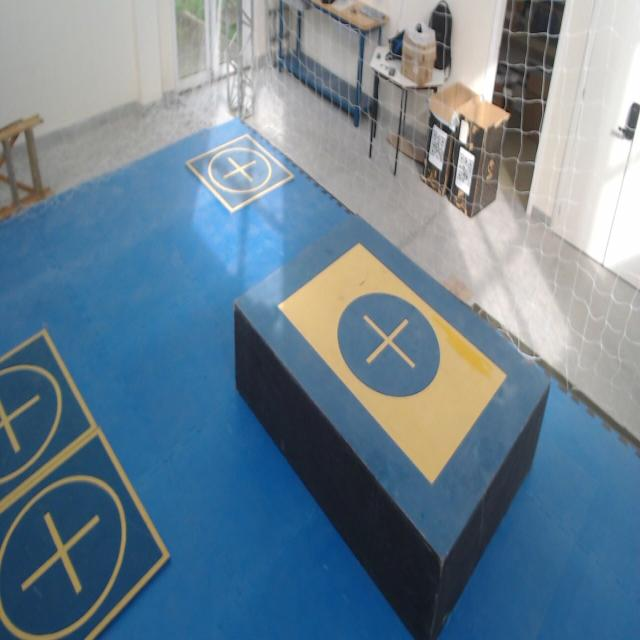base_inicio: (274, 241, 508, 485)
base_pouso: (0, 426, 172, 639), (0, 327, 100, 506), (184, 133, 295, 214)
